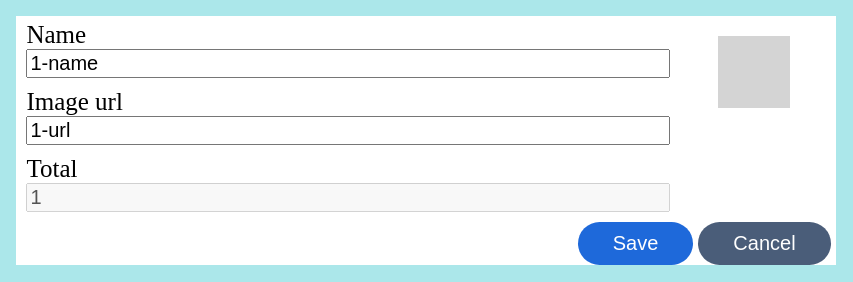
it: EditForm › disables saves button when name is empty
Clear the field named "Name of the card" at (348,64), box [26,49,670,78]
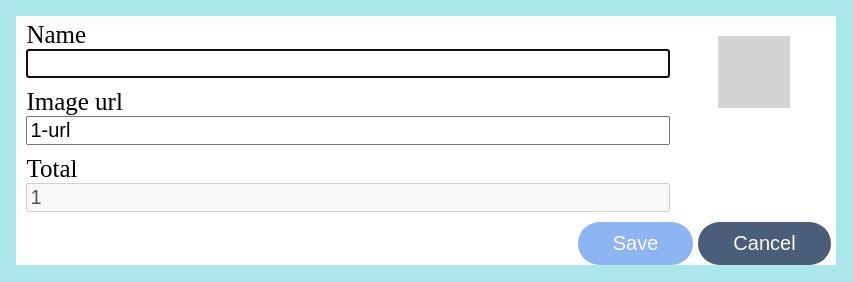
Expected: the button "Save" is disabled, [578,222,693,265]
